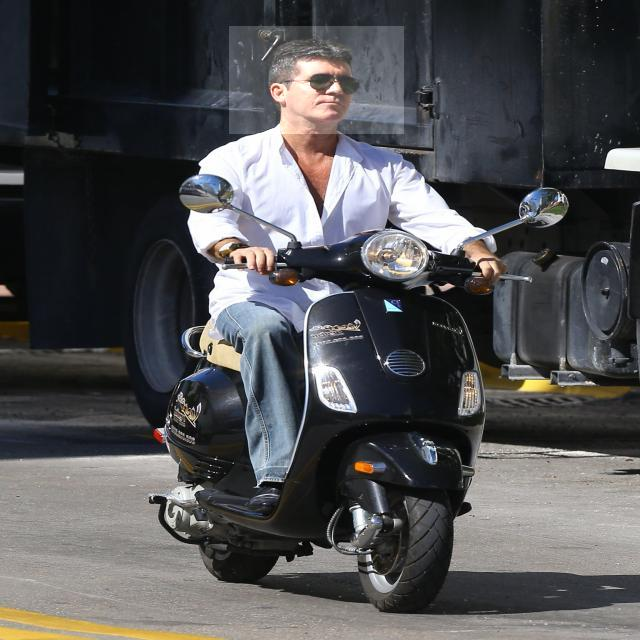No_Helmet: (229, 26, 404, 134)
